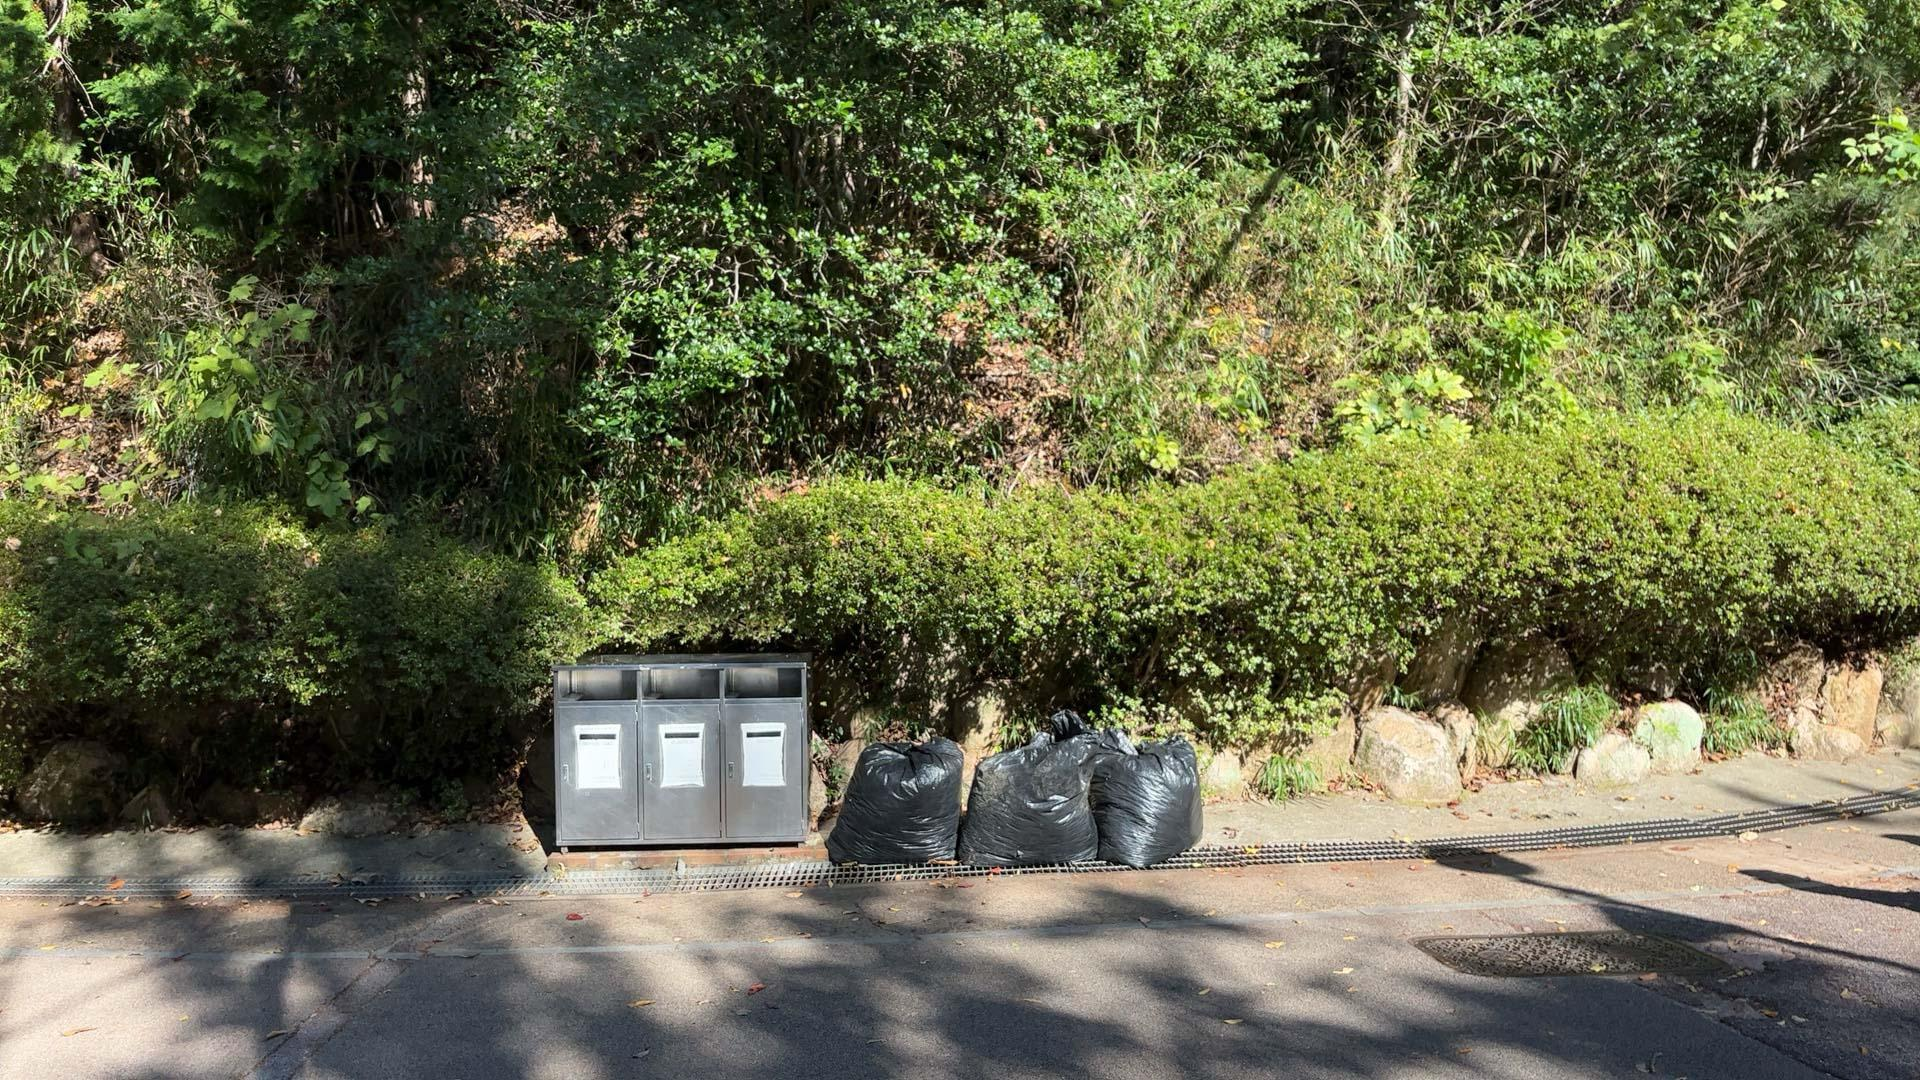black_bag: (955, 700, 1101, 869), (822, 727, 961, 869), (1087, 724, 1211, 869)
